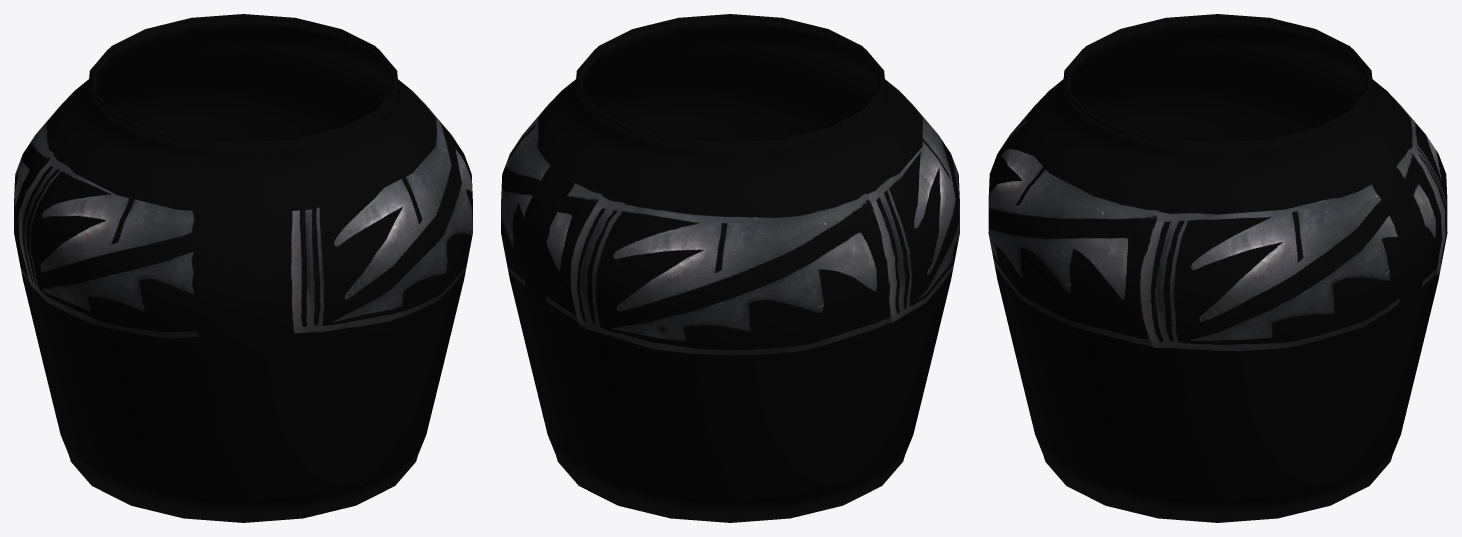
Rendered from BlackPotDone.fbx.
3 renders of one model, left to right at view 1: azimuth 30°, elevation 25°; view 2: azimuth 150°, elevation 25°; view 3: azimuth 270°, elevation 25°, orthographic.
Visible parts, largest first — view 1: Plane; view 2: Plane; view 3: Plane.
Boxes of the visible parts, x1,y1,x2,y2 form: Plane: (14,14,472,522); Plane: (501,14,959,522); Plane: (988,14,1447,522).
Bounding box in the file's own units: 280 × 246 × 276.
